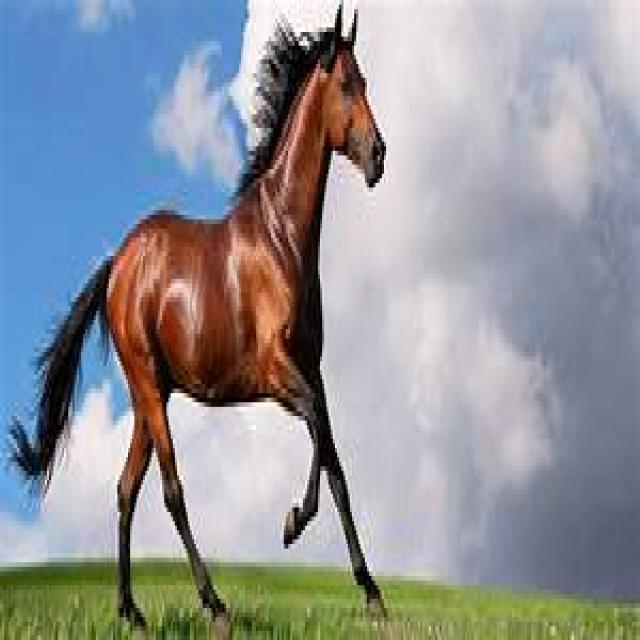horse: (4, 0, 388, 635)
